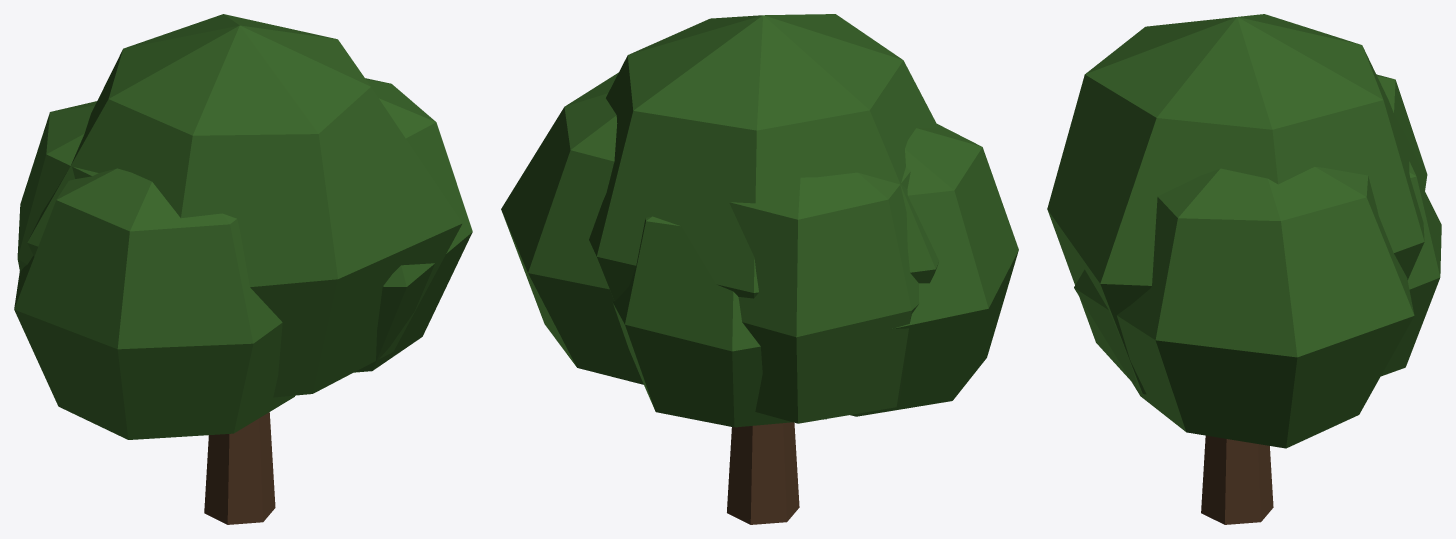
Rendered from arbol_frondoso_2.glb.
3 renders of one model, left to right at view 1: azimuth 30°, elevation 25°; view 2: azimuth 150°, elevation 25°; view 3: azimuth 270°, elevation 25°, orthographic. The views are drawn at different scales.
Visible parts, largest first — view 1: Decid_10; view 2: Decid_10; view 3: Decid_10.
Part boxes in pixels (<box>): Decid_10: <box>14,14,472,524</box>; Decid_10: <box>501,14,1018,524</box>; Decid_10: <box>1047,14,1441,524</box>.
Size of the model in its own units: 5.64 by 5.8 by 4.2.
